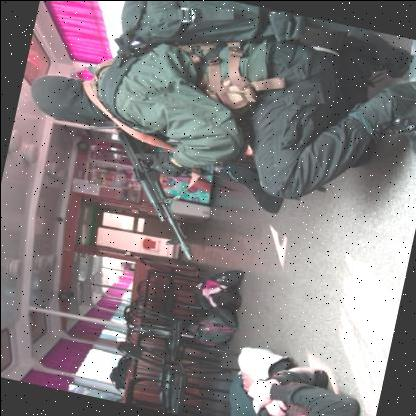rifle: (77, 118, 232, 268)
